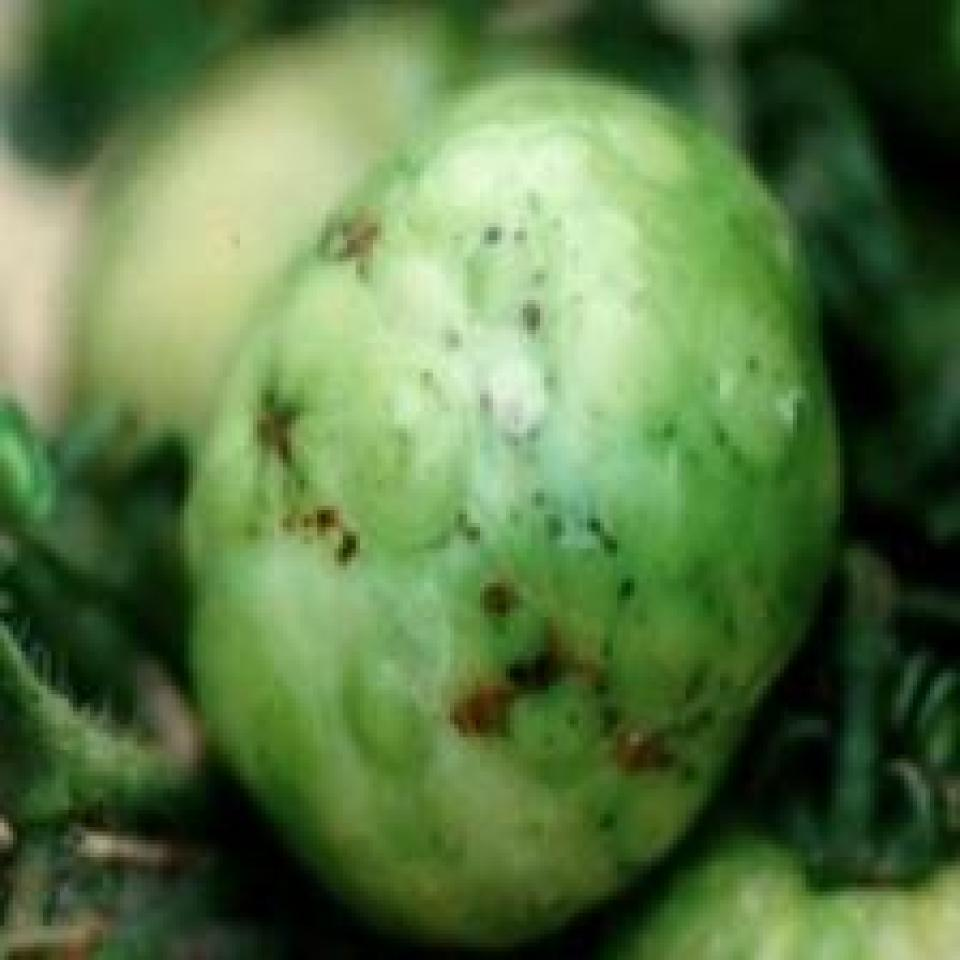Spotted wilt Virus: (178, 55, 853, 942)
